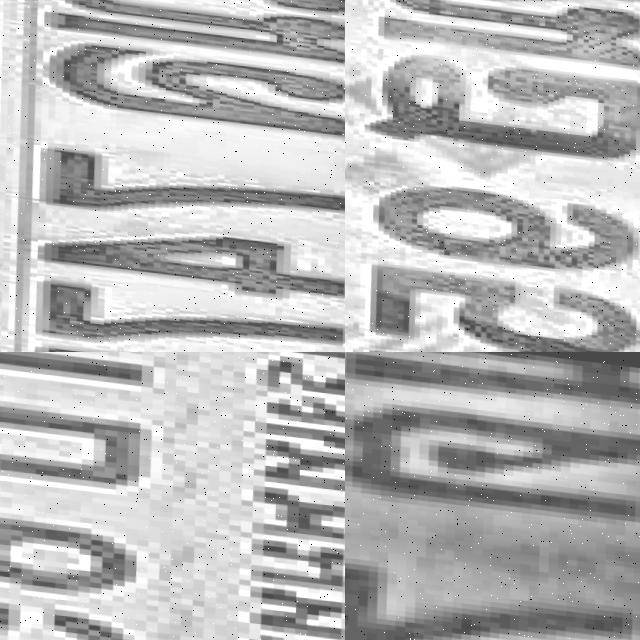license-plate: (0, 0, 345, 352), (345, 0, 640, 352), (0, 352, 345, 640), (345, 352, 640, 640)
